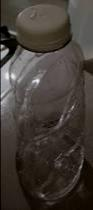Plastic: (12, 0, 88, 203)
